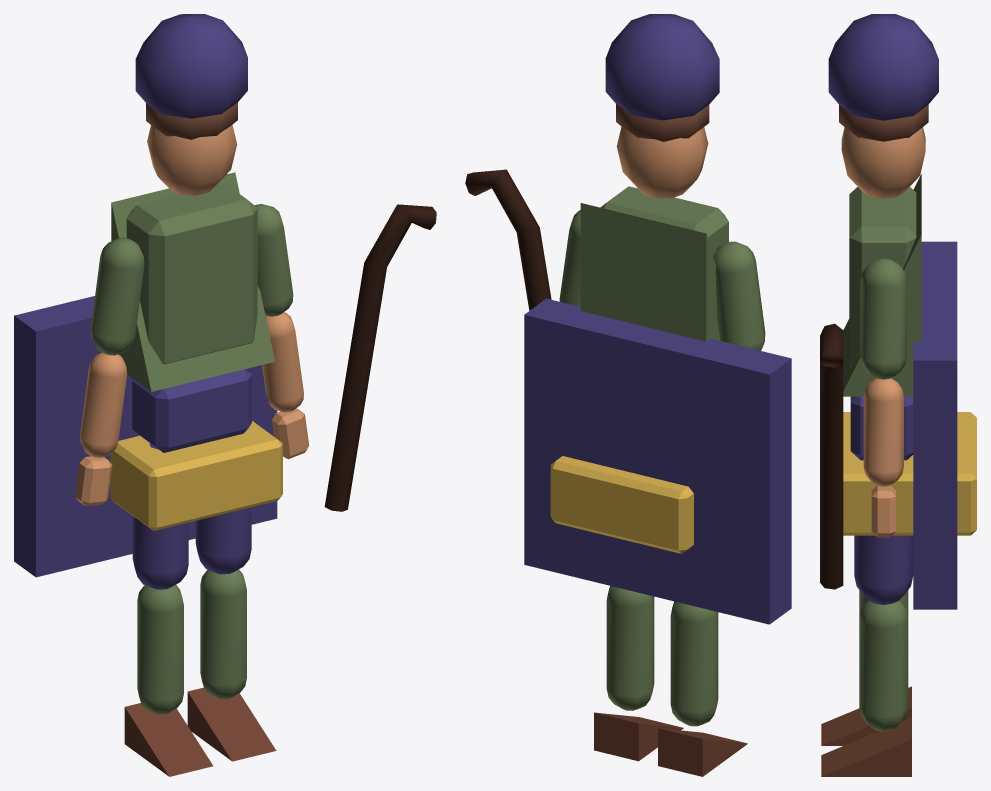
Rendered from adventurer.rustic.glb.
The picture shows the model from 3 angles, left to right: view 1: azimuth 30°, elevation 25°; view 2: azimuth 150°, elevation 25°; view 3: azimuth 270°, elevation 25°; orthographic projection.
Visible parts, largest first — view 1: accessory.back, torso, accessory.waist, accessory.head, accessory.main-hand, pelvis, tunic, shin.left, shin.right, upper-arm.left, head, foot.left (+9 smaller); view 2: accessory.back, tunic, accessory.head, accessory.waist, shin.left, shin.right, head, upper-arm.left, accessory.main-hand, torso, foot.left, foot.right (+2 smaller); view 3: accessory.back, accessory.head, accessory.waist, accessory.main-hand, shin.right, torso, upper-arm.right, head, forearm.right, thigh.right, foot.right, tunic (+4 smaller).
Part boxes in pixels (x1=…): accessory.back: x1=14, y1=296, x2=277, y2=577; torso: x1=126, y1=183, x2=257, y2=364; accessory.waist: x1=110, y1=421, x2=282, y2=530; accessory.head: x1=135, y1=14, x2=247, y2=118; accessory.main-hand: x1=324, y1=204, x2=436, y2=511; pelvis: x1=132, y1=369, x2=251, y2=452; tunic: x1=111, y1=172, x2=275, y2=391; shin.left: x1=137, y1=585, x2=183, y2=714; shin.right: x1=200, y1=569, x2=246, y2=699; upper-arm.left: x1=91, y1=238, x2=144, y2=355; head: x1=147, y1=125, x2=237, y2=195; foot.left: x1=124, y1=703, x2=213, y2=776; accessory.back: x1=524, y1=298, x2=791, y2=624; tunic: x1=580, y1=203, x2=720, y2=341; accessory.head: x1=605, y1=14, x2=719, y2=120; accessory.waist: x1=550, y1=456, x2=693, y2=553; shin.left: x1=670, y1=601, x2=718, y2=726; shin.right: x1=606, y1=586, x2=654, y2=710; head: x1=616, y1=126, x2=708, y2=198; upper-arm.left: x1=713, y1=241, x2=765, y2=350; accessory.main-hand: x1=465, y1=169, x2=551, y2=310; torso: x1=600, y1=186, x2=728, y2=255; foot.left: x1=658, y1=728, x2=747, y2=776; foot.right: x1=594, y1=712, x2=683, y2=761; accessory.back: x1=913, y1=241, x2=957, y2=609; accessory.head: x1=828, y1=14, x2=938, y2=120; accessory.waist: x1=843, y1=412, x2=976, y2=535; accessory.main-hand: x1=820, y1=323, x2=843, y2=589; shin.right: x1=859, y1=600, x2=908, y2=731; torso: x1=849, y1=187, x2=916, y2=367; upper-arm.right: x1=860, y1=258, x2=906, y2=379; head: x1=841, y1=127, x2=925, y2=198; forearm.right: x1=863, y1=378, x2=903, y2=486; thigh.right: x1=854, y1=535, x2=913, y2=604; foot.right: x1=821, y1=717, x2=911, y2=776; tunic: x1=843, y1=174, x2=921, y2=396.
Size of the model in its own units: 1.71 by 3.29 by 0.64.
